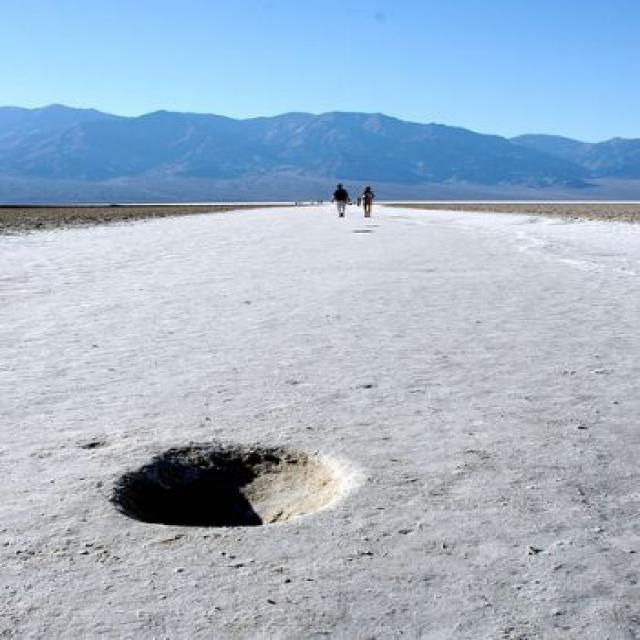Pothole: (103, 433, 359, 534)
